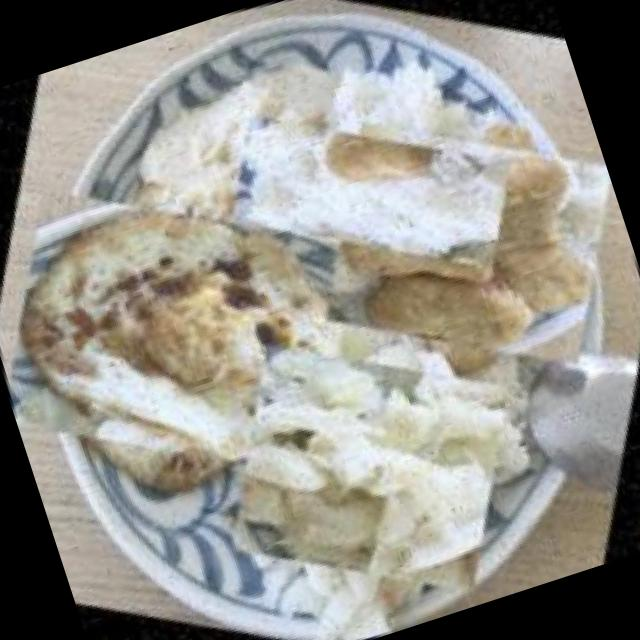chicken_nuggets: (263, 40, 640, 445)
chinese_cabbage: (165, 262, 572, 640)
fried_eggs: (0, 82, 427, 573)
rice: (203, 24, 537, 358)
